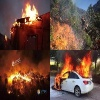fire: (55, 52, 92, 92), (50, 15, 78, 50), (10, 3, 40, 34), (7, 71, 48, 83), (8, 90, 12, 94), (5, 35, 7, 42)
